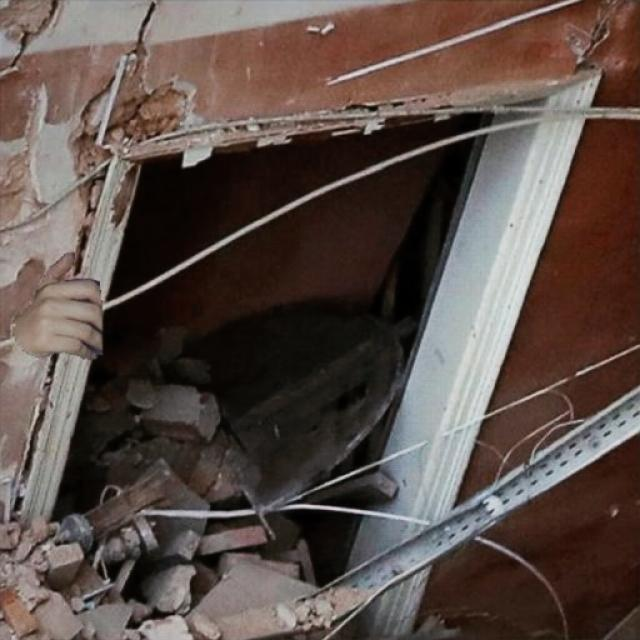Person in Rubble: (12, 252, 102, 358)
